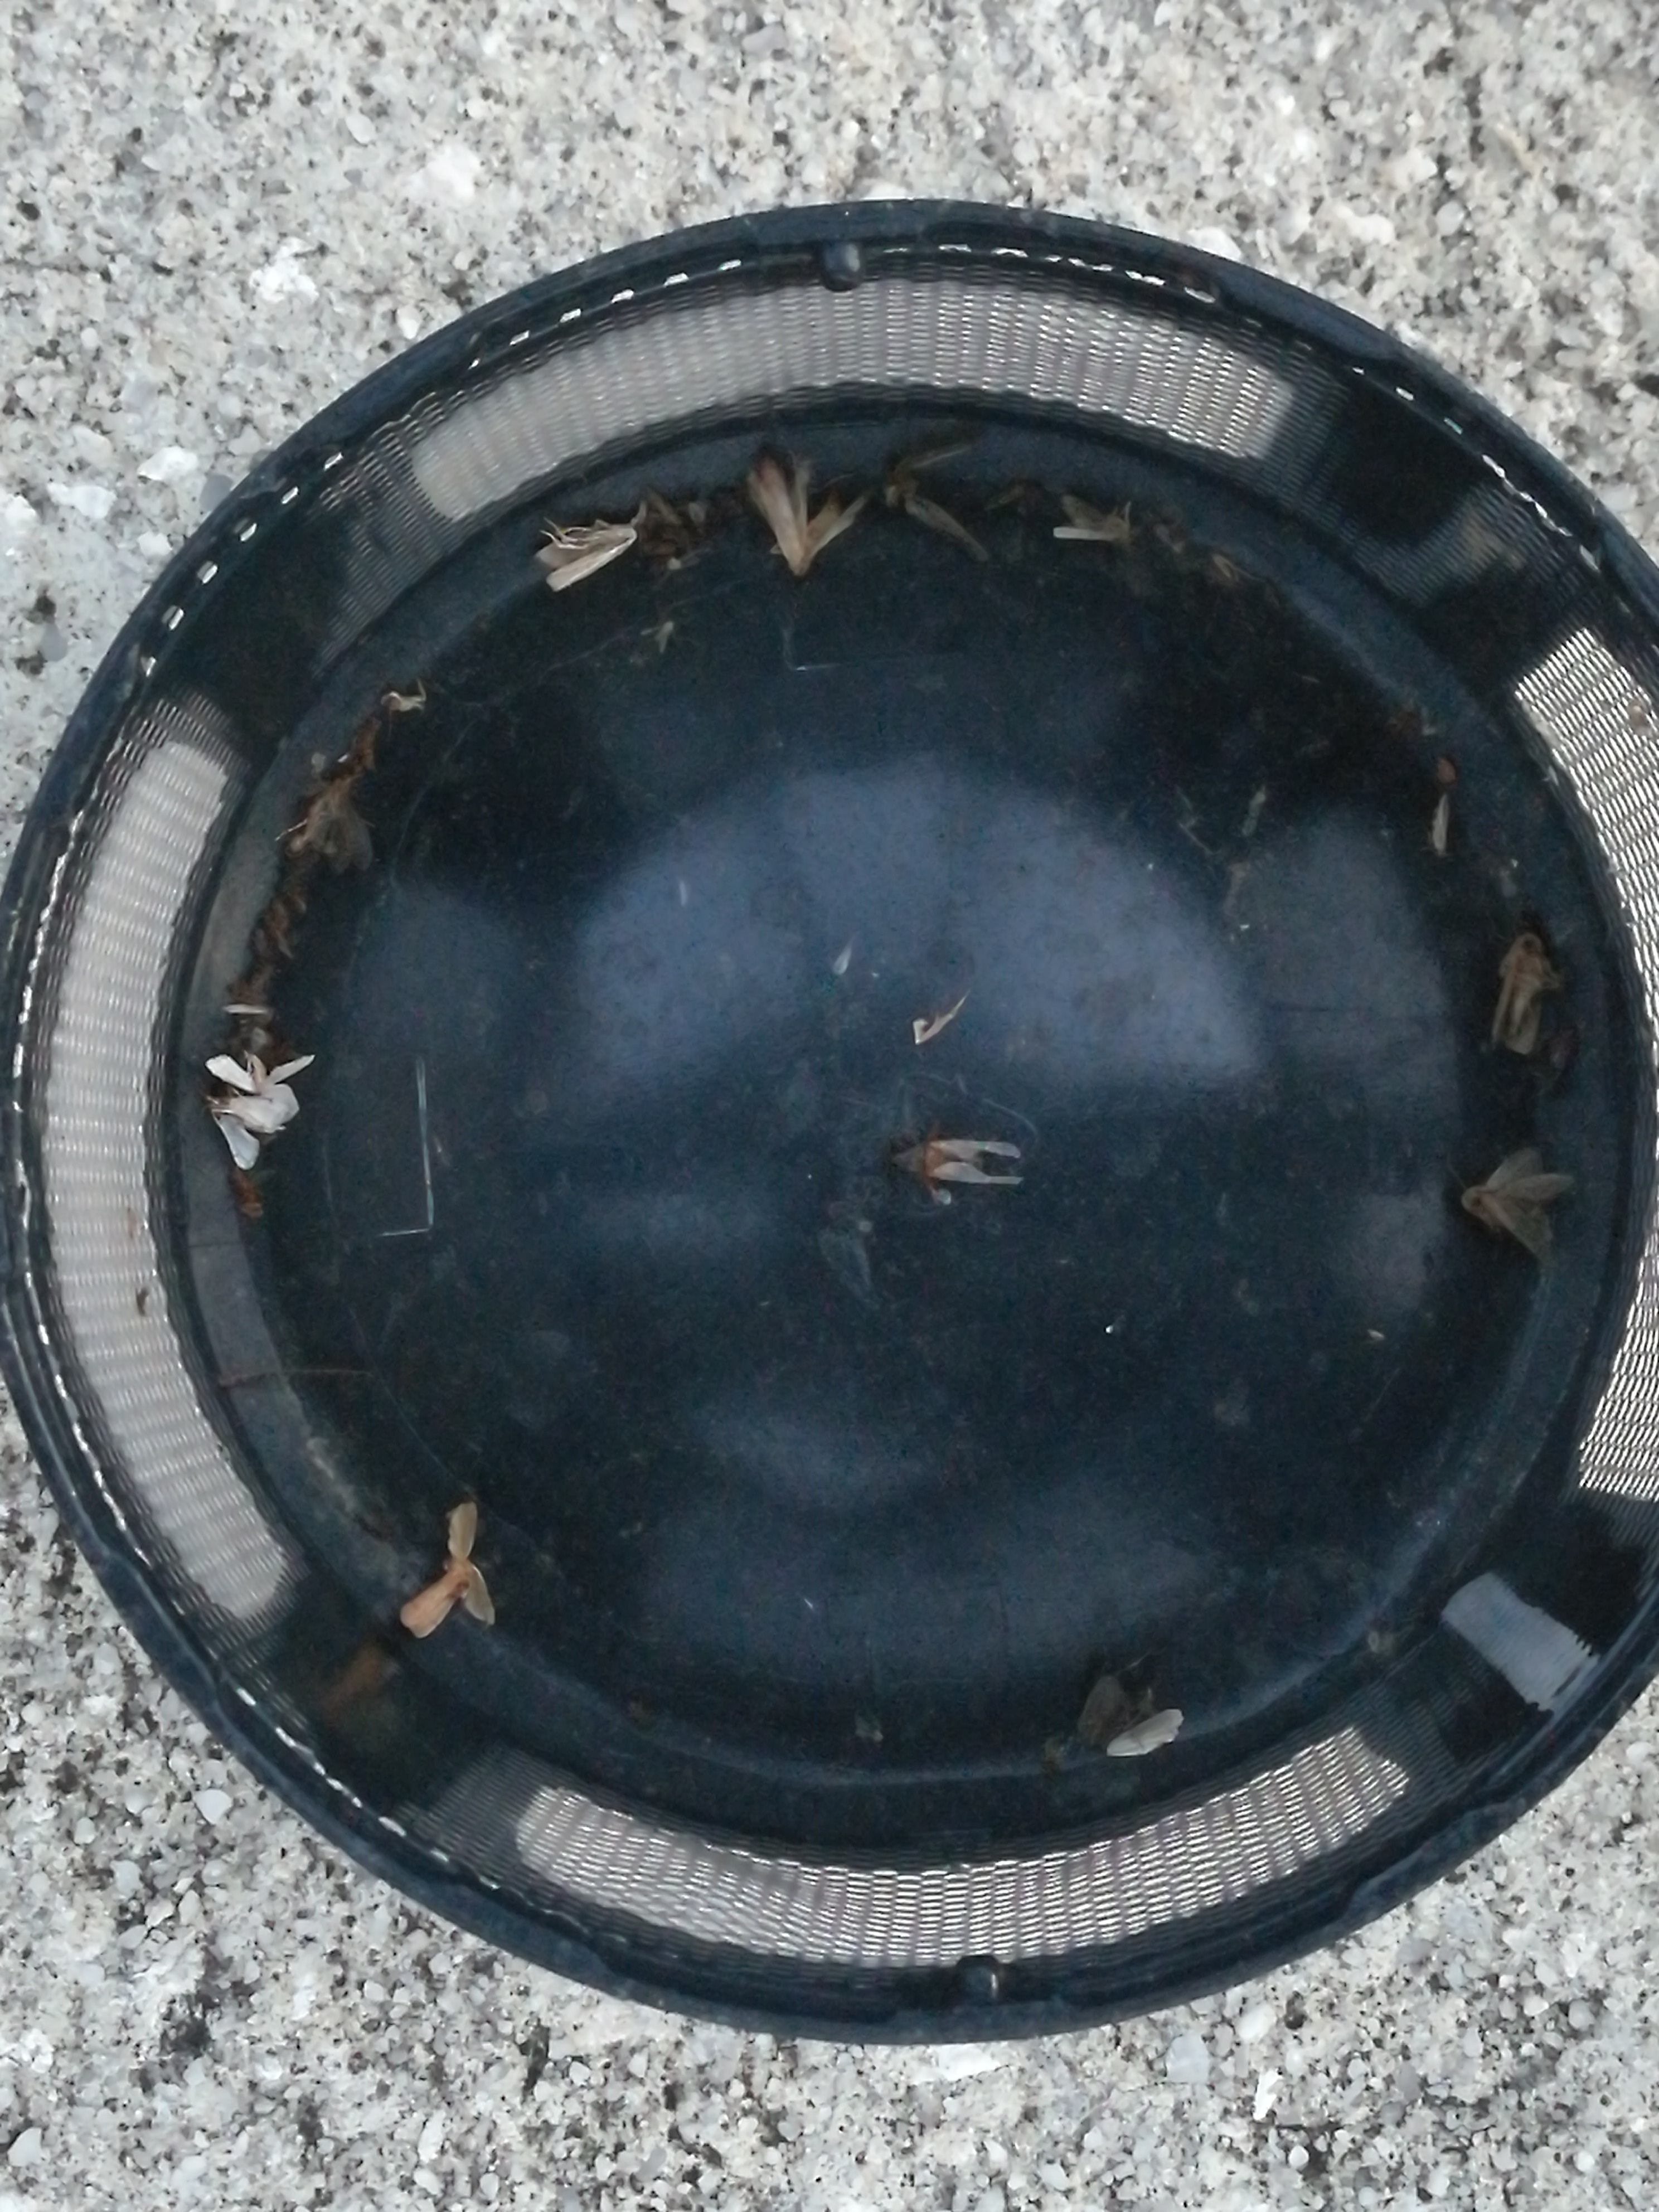mosquito: (532, 519, 636, 594), (892, 1141, 1025, 1183)
moth: (746, 453, 859, 578), (1462, 1151, 1574, 1263), (404, 1505, 493, 1632), (1495, 932, 1546, 1052), (206, 1092, 282, 1162), (206, 1055, 315, 1096)
